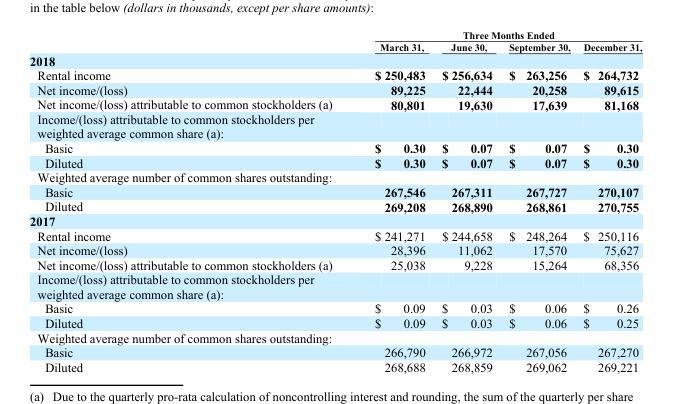table: (29, 28, 641, 373)
table column: (29, 28, 352, 373), (352, 28, 432, 373), (500, 28, 576, 373), (432, 28, 500, 373), (576, 28, 641, 373)
table column header: (29, 28, 641, 52)
table projected row header: (29, 111, 641, 140), (29, 271, 641, 300), (29, 52, 641, 67), (29, 169, 641, 184), (29, 213, 641, 228), (29, 330, 641, 344)
table row: (29, 111, 641, 140), (29, 271, 641, 300), (29, 52, 641, 67), (29, 67, 641, 82), (29, 96, 641, 111), (29, 140, 641, 155), (29, 169, 641, 184), (29, 198, 641, 213), (29, 213, 641, 228), (29, 242, 641, 257), (29, 300, 641, 315), (29, 315, 641, 330), (29, 344, 641, 359), (29, 82, 641, 96), (29, 155, 641, 169), (29, 184, 641, 198), (29, 228, 641, 242), (29, 257, 641, 271), (29, 330, 641, 344), (29, 359, 641, 373), (29, 28, 641, 40), (29, 40, 641, 52)
table spanning cell: (352, 28, 641, 40)
